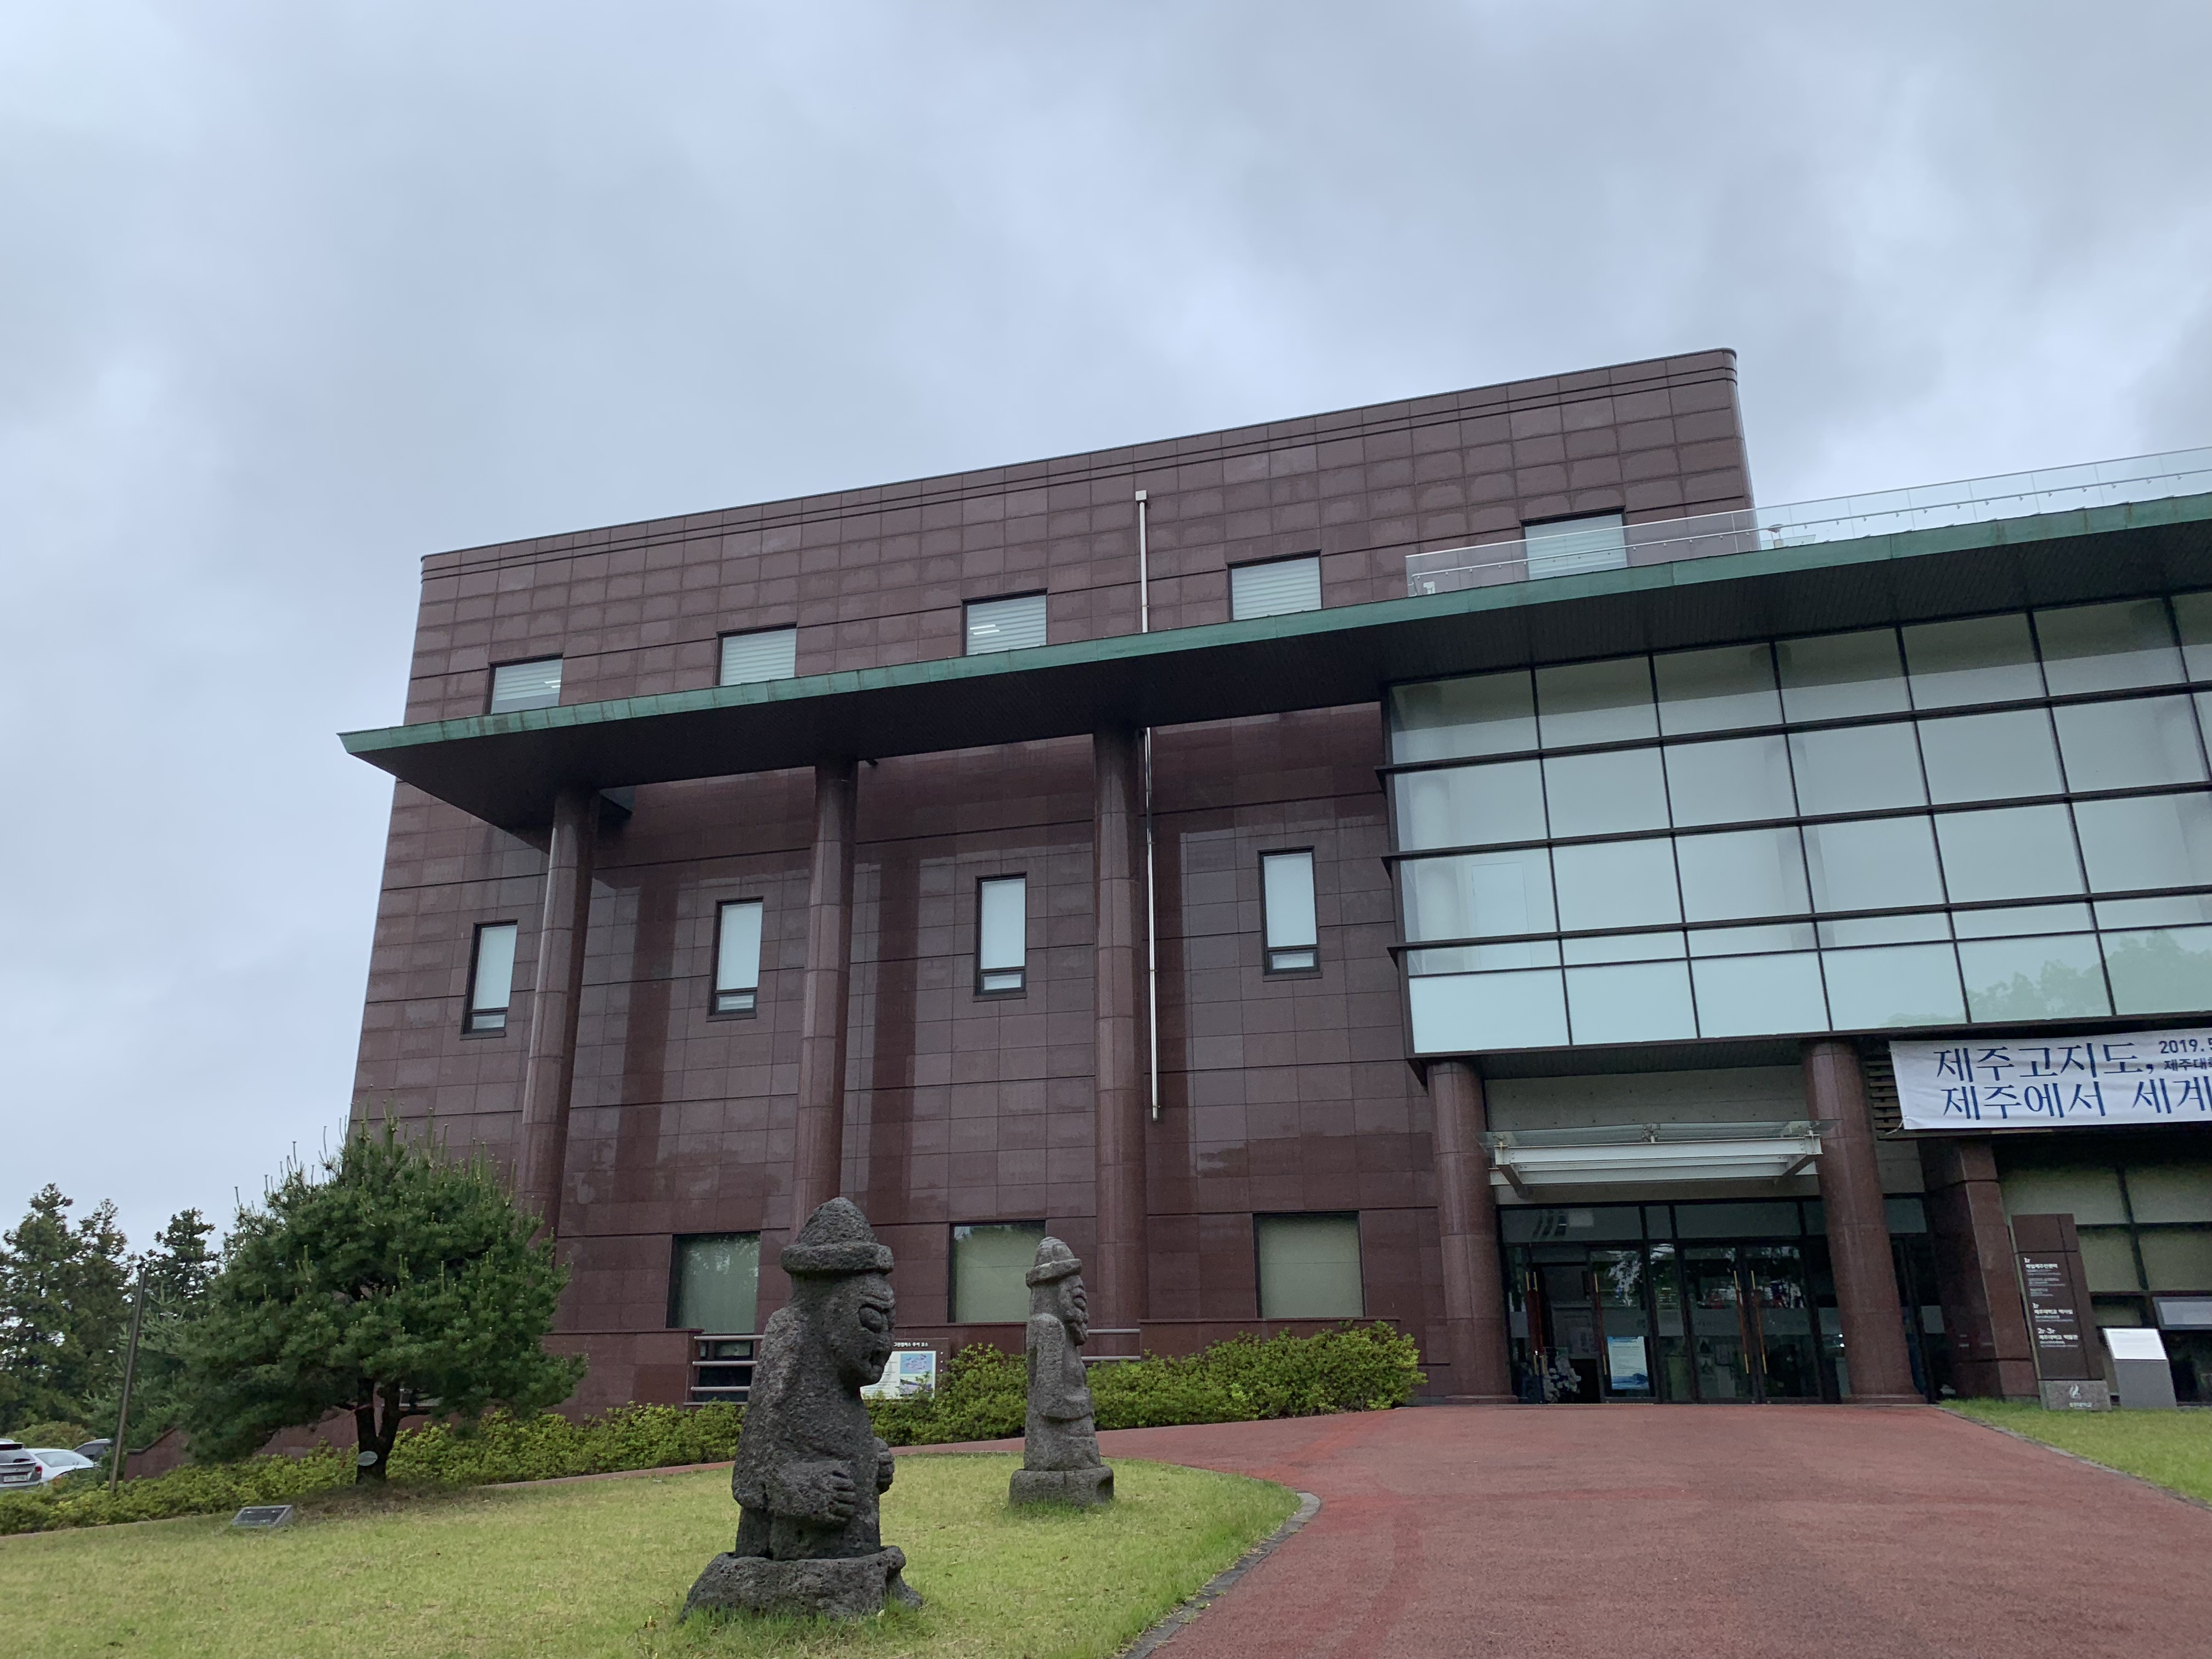Museum: (359, 462, 2205, 1450)
